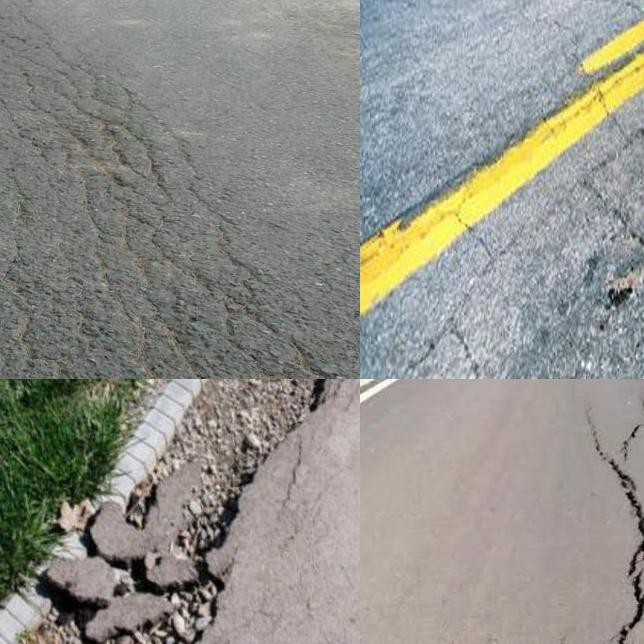Memanjang: (605, 379, 644, 644)
Pinggir: (0, 379, 358, 644)
Retak Buaya: (0, 0, 334, 379)
